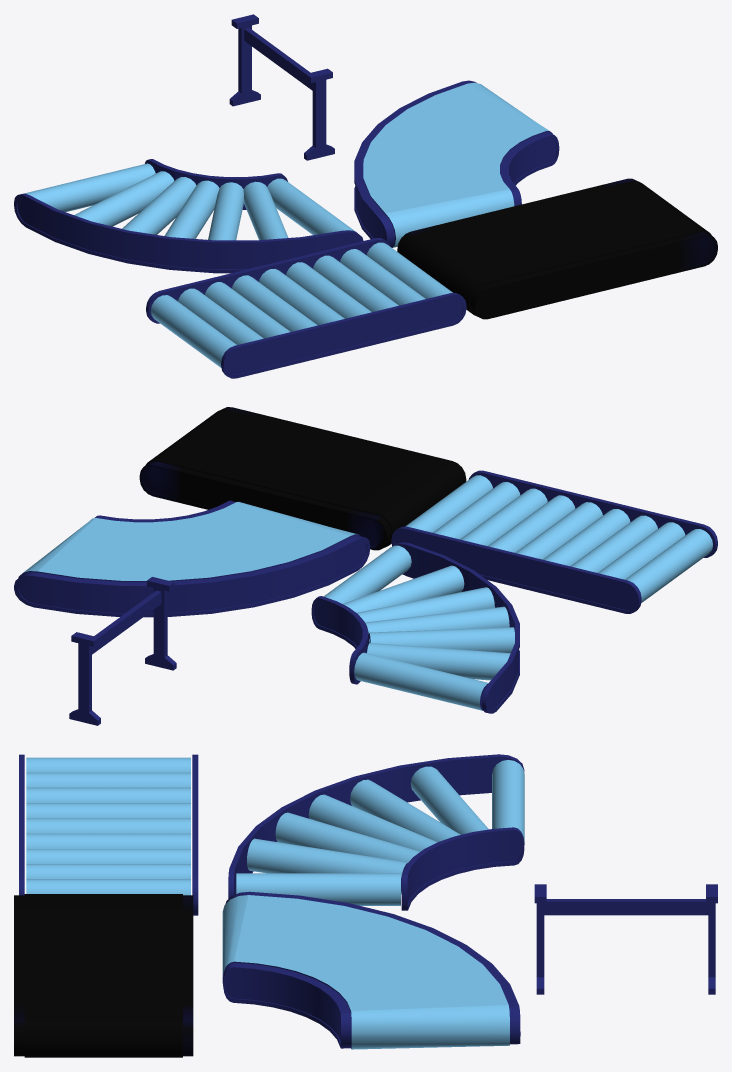
File: Barras traspotadoras.fbx
The picture shows the model from 3 angles, top to bottom: view 1: azimuth 30°, elevation 25°; view 2: azimuth 150°, elevation 25°; view 3: azimuth 270°, elevation 25°; orthographic projection. The views are drawn at different scales.
Visible parts, largest first — view 1: Object001, Object003, conveyorbelt_corner.mo, Object002, conveyorbelt_support.mo; view 2: Object002, Object003, Object001, conveyorbelt_corner.mo, conveyorbelt_support.mo; view 3: Object002, conveyorbelt_corner.mo, Object001, Object003, conveyorbelt_support.mo.
Part boxes in pixels (x1,y1,x2,y2): Object001: (397,178,717,319); Object003: (146,238,466,378); conveyorbelt_corner.mo: (14,159,363,273); Object002: (354,80,559,247); conveyorbelt_support.mo: (229,14,334,160); Object002: (14,500,370,617); Object003: (391,470,717,613); Object001: (139,407,466,550); conveyorbelt_corner.mo: (311,542,519,713); conveyorbelt_support.mo: (69,577,176,725); Object002: (222,891,520,1049); conveyorbelt_corner.mo: (228,754,524,910); Object001: (14,894,193,1057); Object003: (19,754,198,915); conveyorbelt_support.mo: (534,884,717,994).
Bounding box in the file's own units: 139 × 22.41 × 149.
